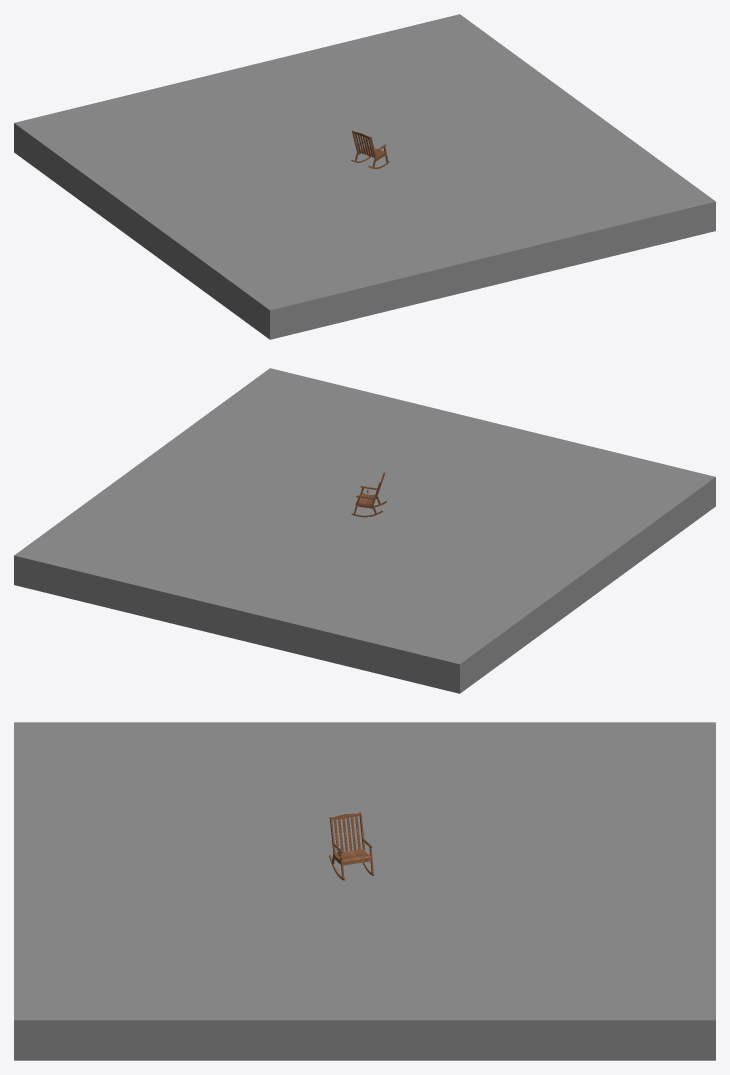
Rendered from wooden-rocking-chair.FBX.
The picture shows the model from 3 angles, top to bottom: view 1: azimuth 30°, elevation 25°; view 2: azimuth 150°, elevation 25°; view 3: azimuth 270°, elevation 25°; orthographic projection. The views are drawn at different scales.
Visible parts, largest first — view 1: Box001; view 2: Box001; view 3: Box001.
Boxes of the visible parts, x1=… form: Box001: x1=14, y1=14, x2=715, y2=339; Box001: x1=14, y1=368, x2=715, y2=693; Box001: x1=14, y1=722, x2=715, y2=1060.
Bounding box in the file's own units: 51.89 × 7.35 × 51.61.
4 materials, 3 textured.
